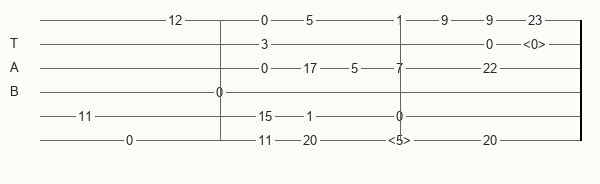0: (126, 133, 137, 147), (216, 85, 227, 99), (261, 61, 272, 75), (261, 13, 272, 27), (396, 109, 407, 123), (486, 37, 497, 51)
1: (306, 109, 317, 123), (396, 13, 407, 27)
11: (78, 109, 96, 123), (258, 133, 276, 147)
12: (168, 13, 186, 27)
15: (258, 109, 276, 123)
17: (303, 61, 321, 75)
20: (303, 133, 321, 147), (483, 133, 501, 147)
22: (483, 61, 501, 75)
23: (528, 13, 546, 27)
3: (261, 37, 272, 51)
5: (306, 13, 317, 27), (351, 61, 362, 75)
7: (396, 61, 407, 75)
9: (441, 13, 452, 27), (486, 13, 497, 27)
harmonic: (388, 133, 415, 147), (523, 37, 550, 51)
